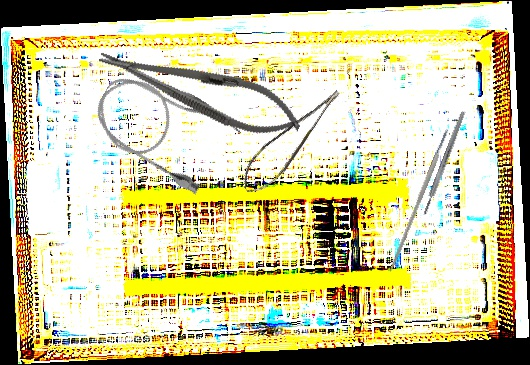Cannula: (82, 56, 246, 199)
Micro Scissor: (231, 86, 357, 200)
Needle Holder: (92, 31, 309, 149)
Scalpel Handle: (387, 127, 452, 273), (421, 109, 467, 217)
